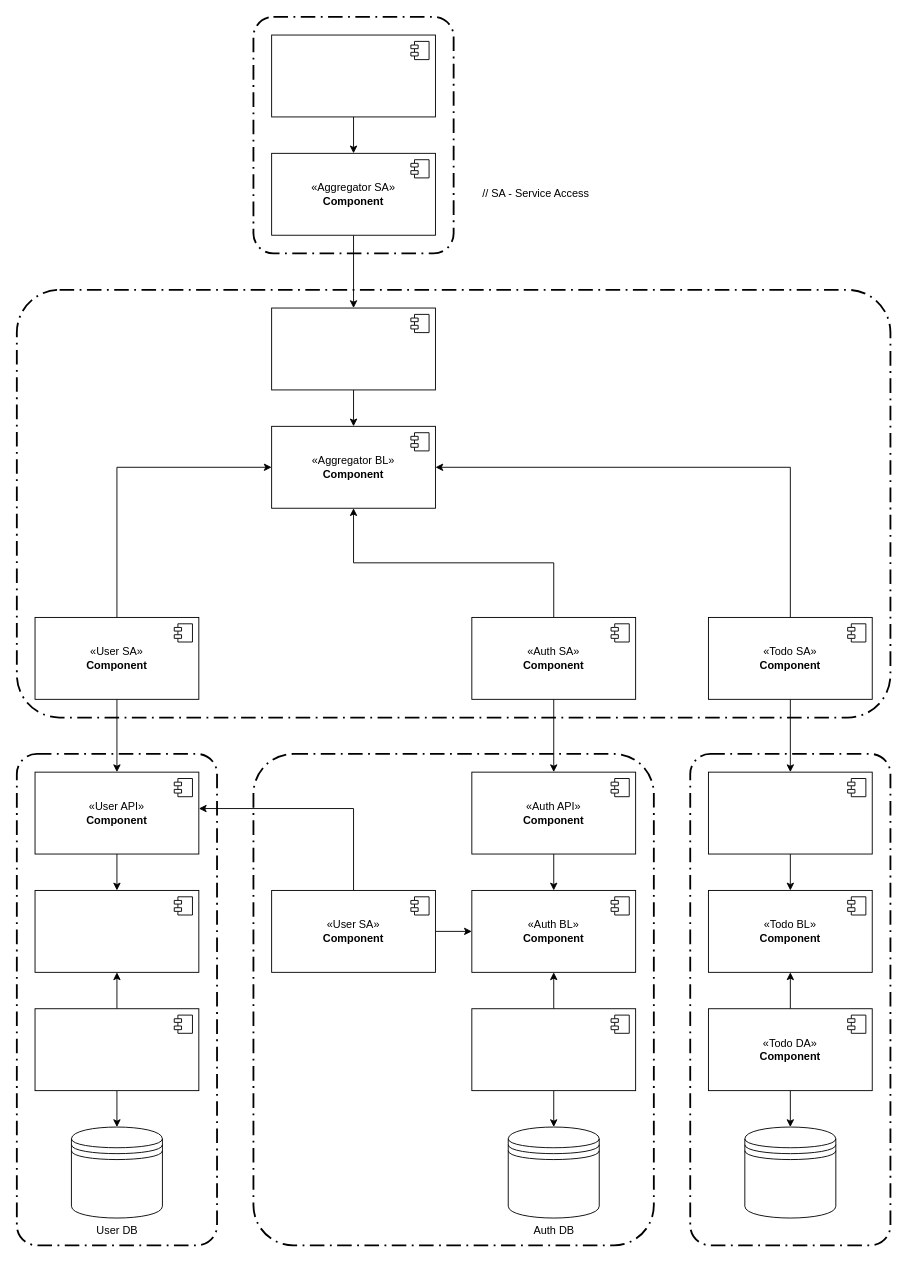
Image size: 906x1261. Some labels were removed from this diagram. Here are the shapes that lost their labels. From the top down, the centre of each, then its label:
At (353,75): "«CLI Client» Component".
At (353,348): "«Aggregator API» Component".
At (790,812): "«Todo API» Component".
At (116,931): "«User BL» Component".
At (116,1049): "«User DA» Component".
At (553,1049): "«Auth DA» Component".
At (790,1172): "Todo DB".
